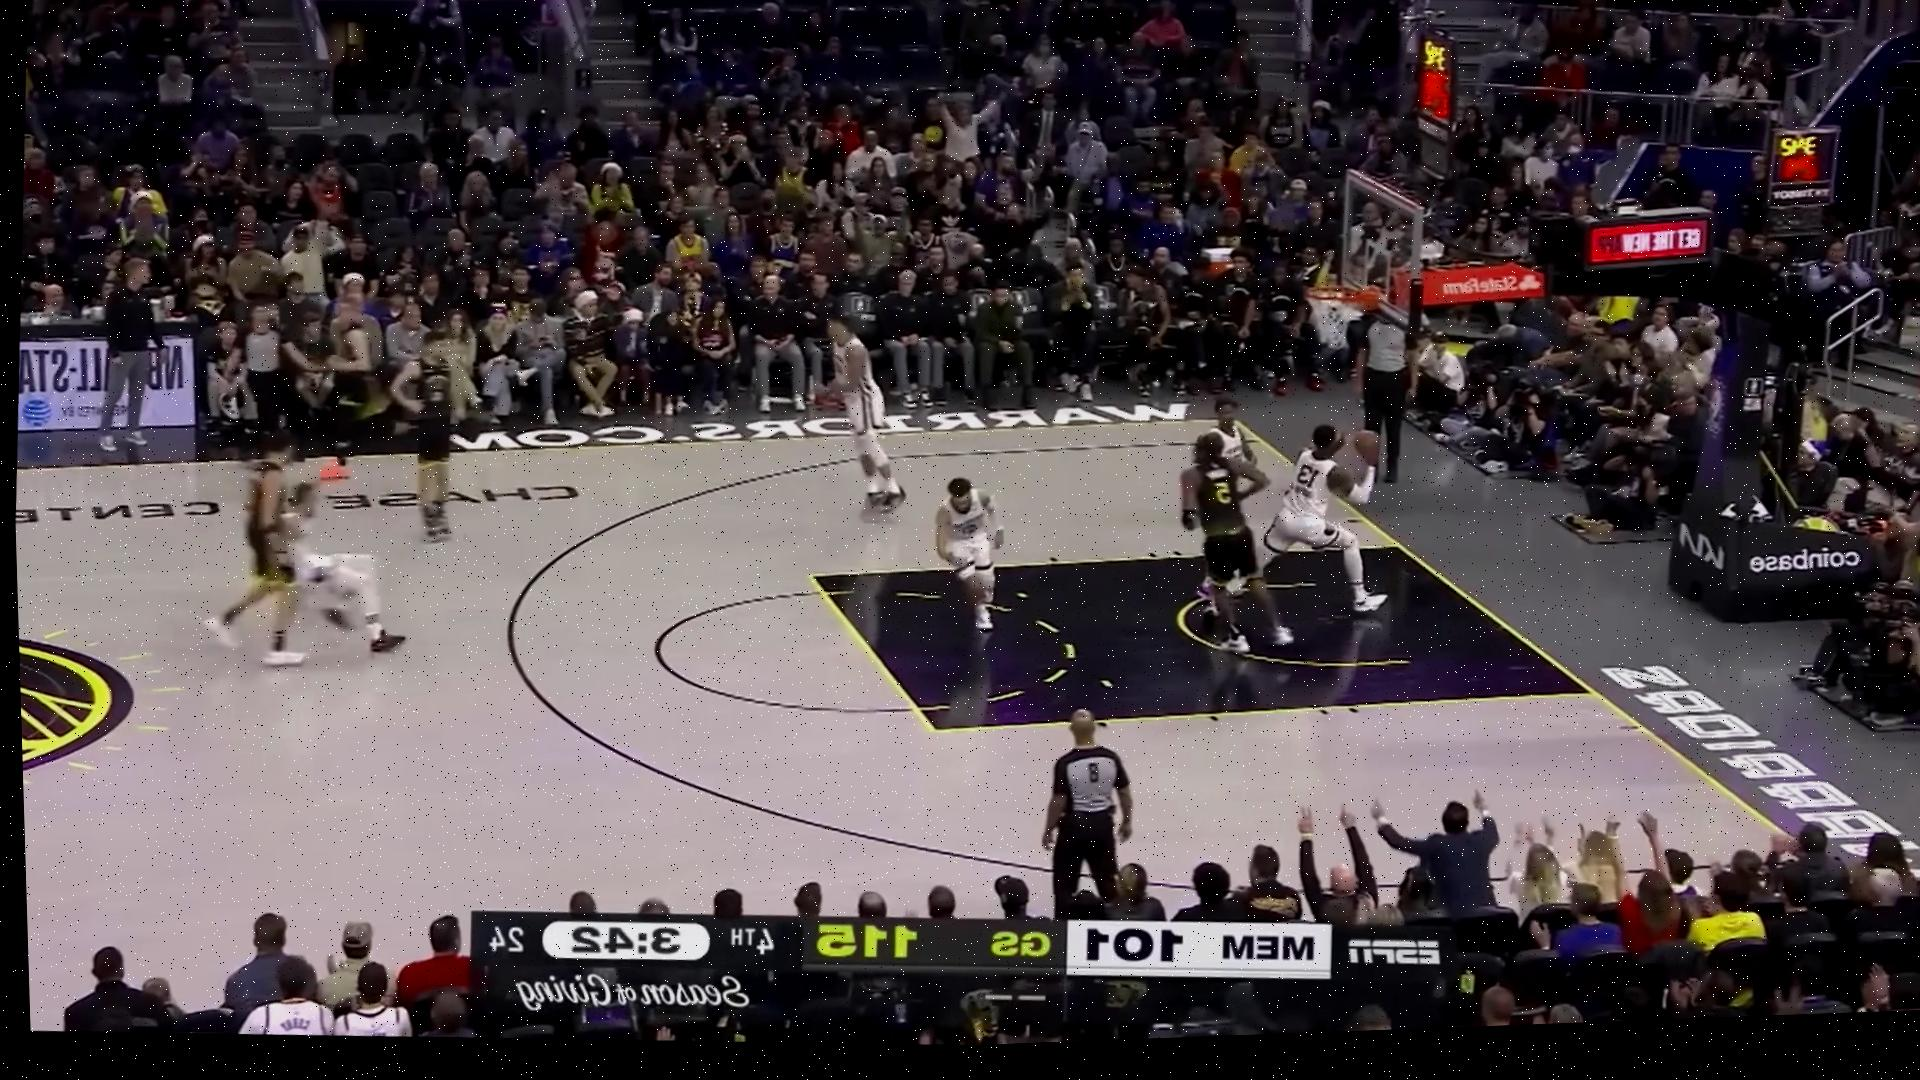no_foul: (1150, 386, 1404, 663)
